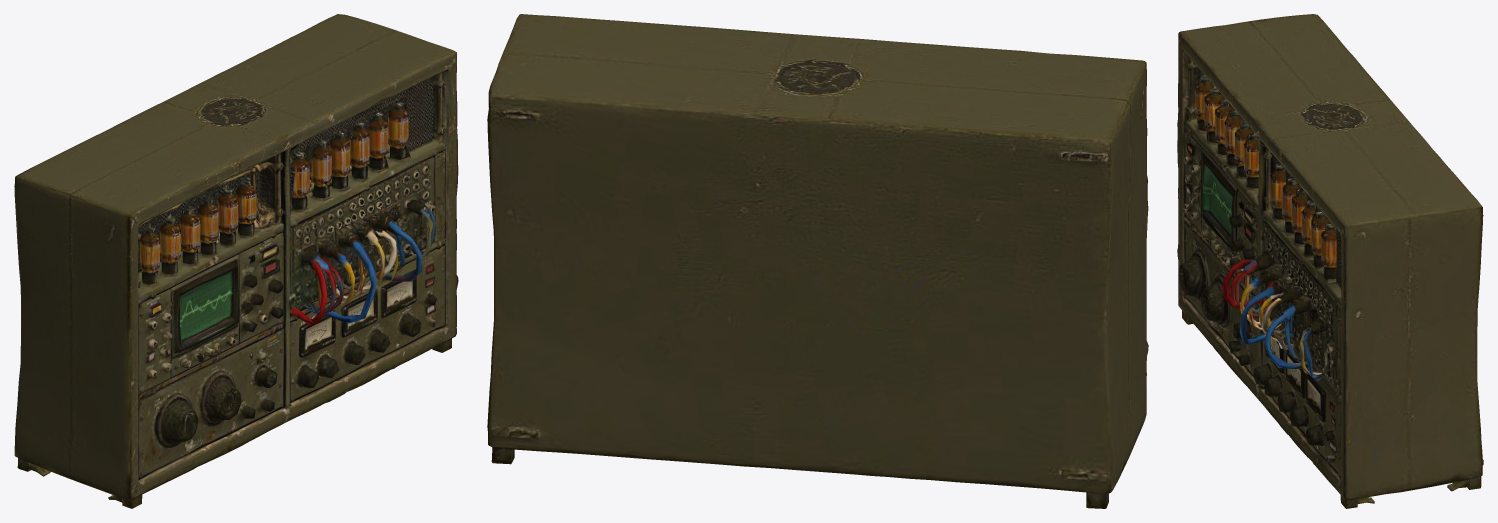
The model's file is hero_prop_shortwave_radio.glb.
3 renders of one model, left to right at view 1: azimuth 30°, elevation 25°; view 2: azimuth 150°, elevation 25°; view 3: azimuth 270°, elevation 25°, orthographic. The views are drawn at different scales.
Visible parts, largest first — view 1: tripo_node_8d137fb1-5a73-4ea5-bbeb-445bf6025e99; view 2: tripo_node_8d137fb1-5a73-4ea5-bbeb-445bf6025e99; view 3: tripo_node_8d137fb1-5a73-4ea5-bbeb-445bf6025e99.
Part boxes in pixels (x1=…): tripo_node_8d137fb1-5a73-4ea5-bbeb-445bf6025e99: x1=14, y1=14, x2=458, y2=508; tripo_node_8d137fb1-5a73-4ea5-bbeb-445bf6025e99: x1=487, y1=14, x2=1148, y2=508; tripo_node_8d137fb1-5a73-4ea5-bbeb-445bf6025e99: x1=1177, y1=14, x2=1483, y2=508.
Size of the model in its own units: 1.04 by 0.641 by 0.6216.
1 material, 1 textured.
